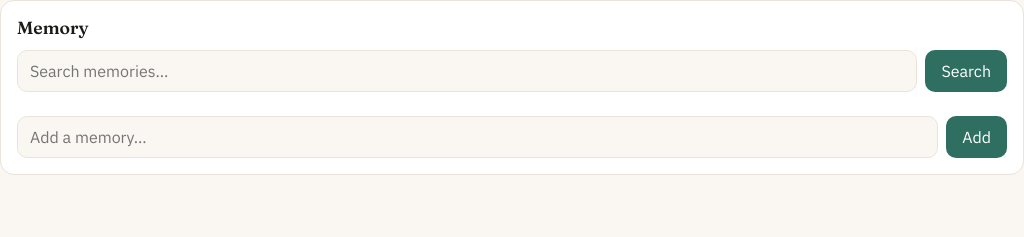
Test: deleting a result removes its row
In the field labelled "Search": (467, 71) [17,50,917,92], type "apple"
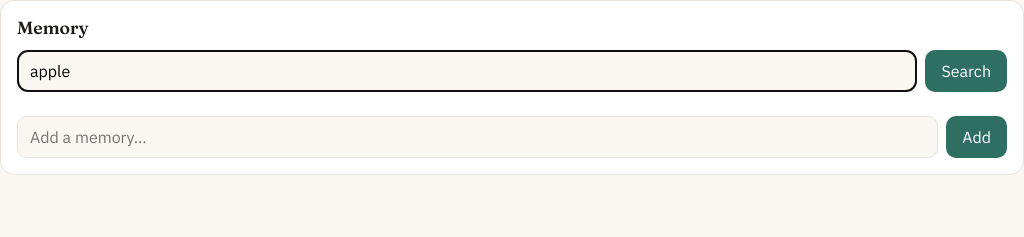
Click the button "Search": (966, 71) [925,50,1007,92]
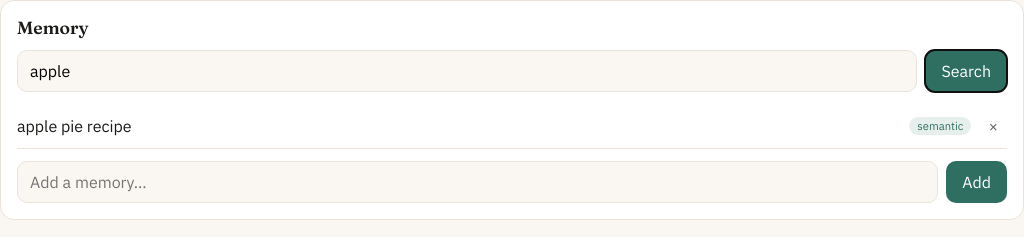
Expected: the text "apple pie recipe" is shown, [17,116,132,136]
Click the button named "delete mem_1": (993, 126) [979,114,1007,138]
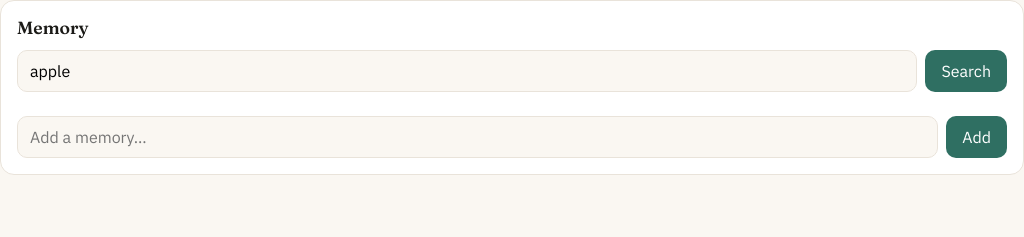
Expected: the text "apple pie recipe" is gone
